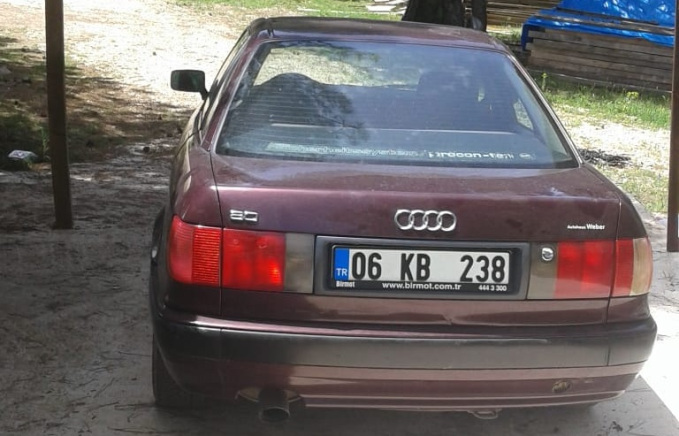audi: (387, 204, 462, 237)
